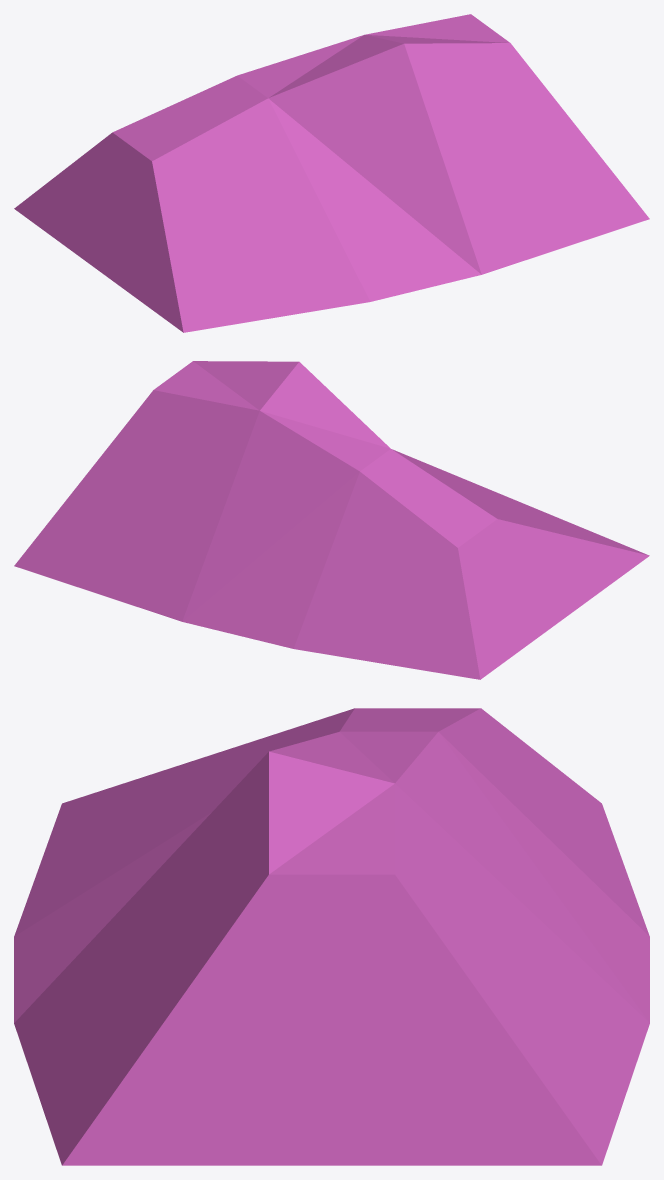
Rendered from obstacle2.fbx.
3 renders of one model, top to bottom at view 1: azimuth 30°, elevation 25°; view 2: azimuth 150°, elevation 25°; view 3: azimuth 270°, elevation 25°, orthographic. The views are drawn at different scales.
Visible parts, largest first — view 1: obstacle2; view 2: obstacle2; view 3: obstacle2.
Part boxes in pixels (x1,y1,x2,y2): obstacle2: [14, 14, 649, 332]; obstacle2: [14, 361, 649, 679]; obstacle2: [14, 708, 649, 1165].
Bounding box in the file's own units: 14.86 × 11.02 × 5.24.
